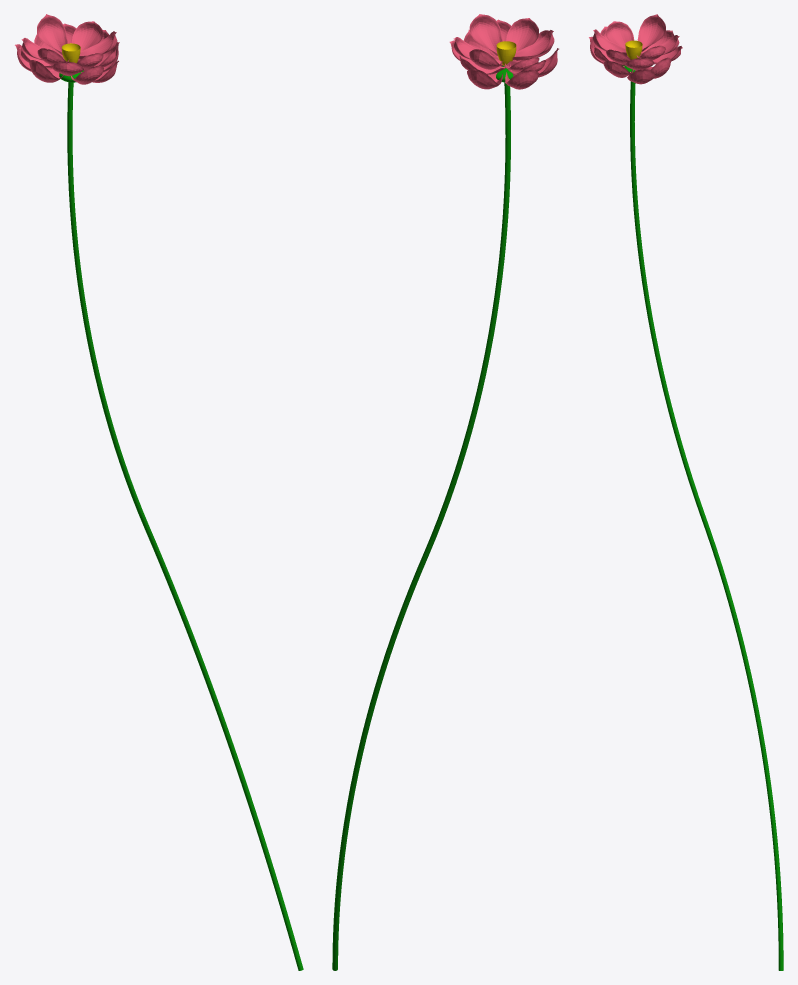
Rendered from Lotus074.fbx.
The picture shows the model from 3 angles, left to right: view 1: azimuth 30°, elevation 25°; view 2: azimuth 150°, elevation 25°; view 3: azimuth 330°, elevation 25°; orthographic projection. The views are drawn at different scales.
Parts seen in each view (by area): view 1: pCylinder5, nurbsToPoly23, nurbsToPoly19; view 2: pCylinder5, nurbsToPoly22, nurbsToPoly18, nurbsToPoly21, nurbsToPoly10; view 3: pCylinder5, nurbsToPoly23, nurbsToPoly20.
Boxes of the visible parts, x1,y1,x2,y2 form: pCylinder5: (67, 82, 303, 970); nurbsToPoly23: (37, 14, 67, 55); nurbsToPoly19: (71, 21, 102, 51); pCylinder5: (332, 82, 510, 970); nurbsToPoly22: (469, 14, 502, 55); nurbsToPoly18: (506, 18, 538, 51); nurbsToPoly21: (512, 30, 554, 60); nurbsToPoly10: (467, 68, 502, 89); pCylinder5: (630, 81, 783, 970); nurbsToPoly23: (637, 14, 665, 51); nurbsToPoly20: (605, 21, 634, 48).
Bounding box in the file's own units: 52.47 × 199 × 24.3.
